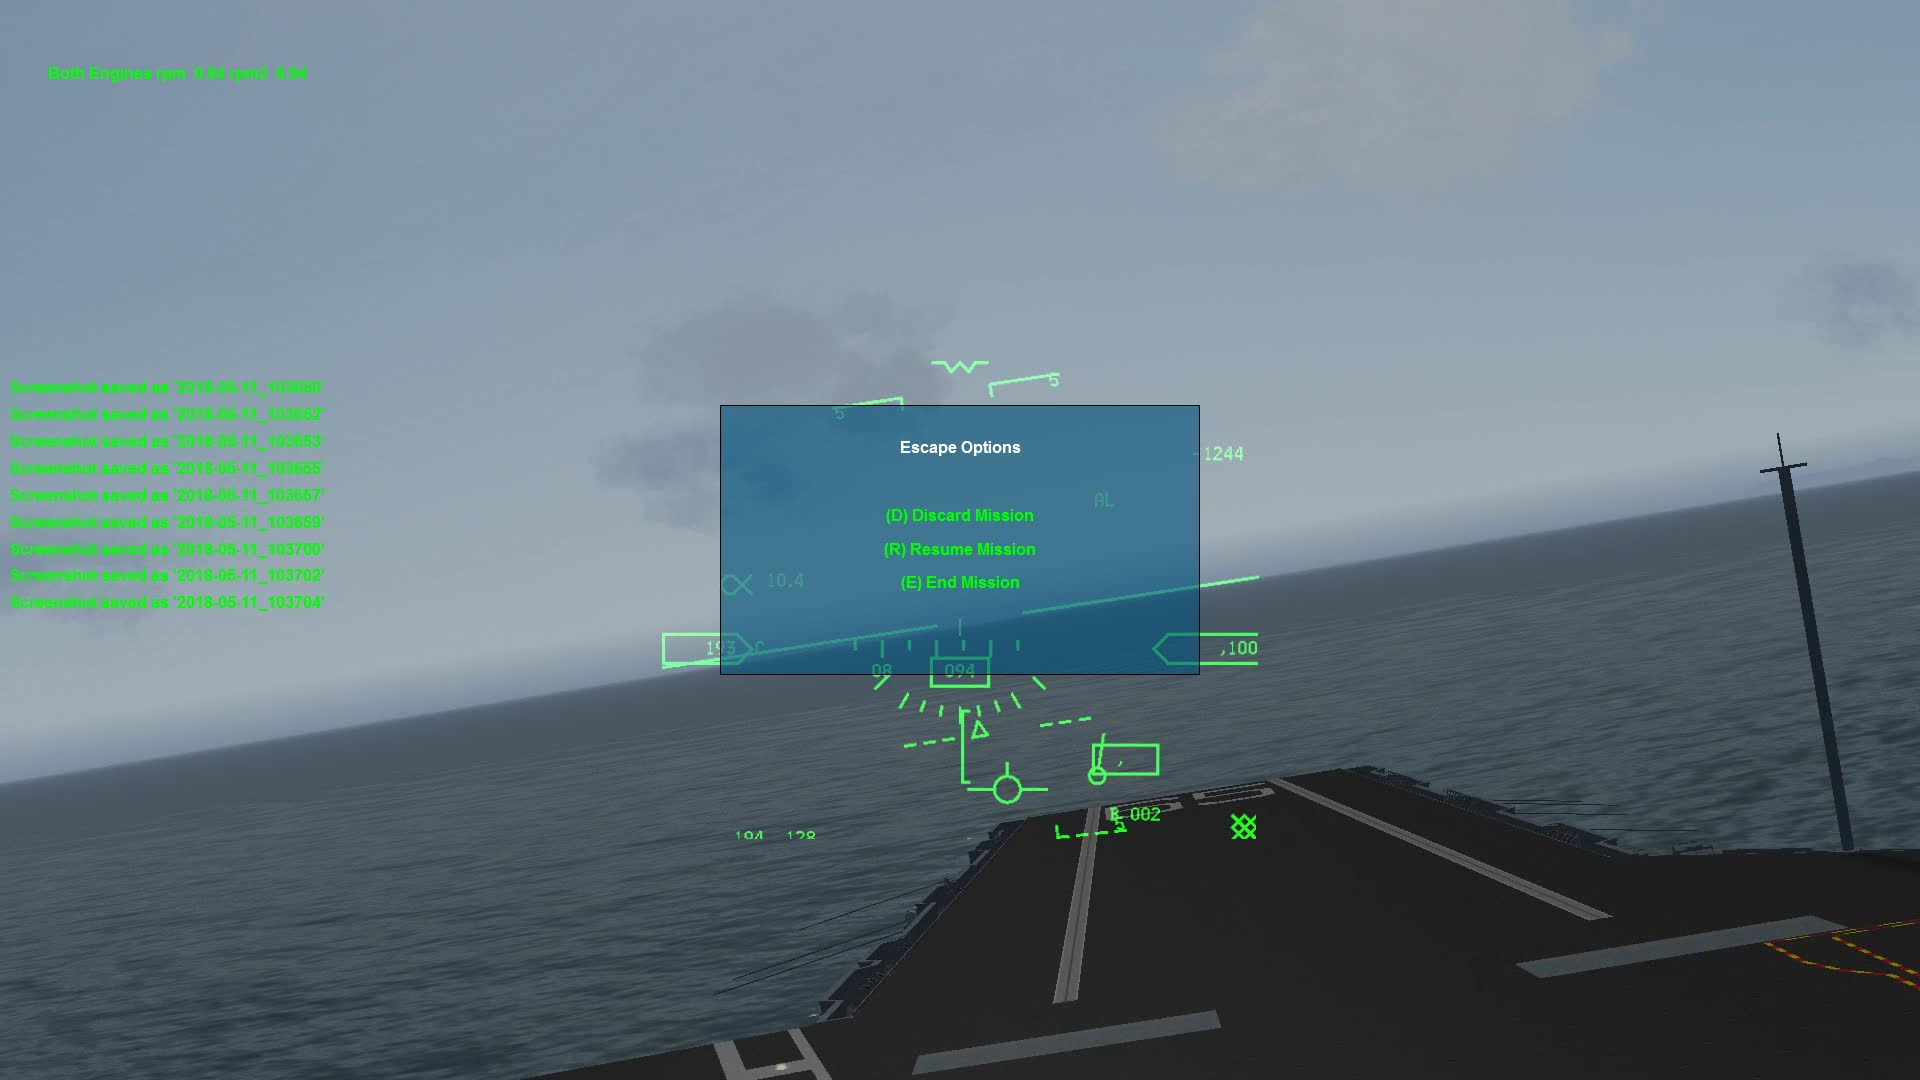speed vector: (965, 764, 1055, 806)
